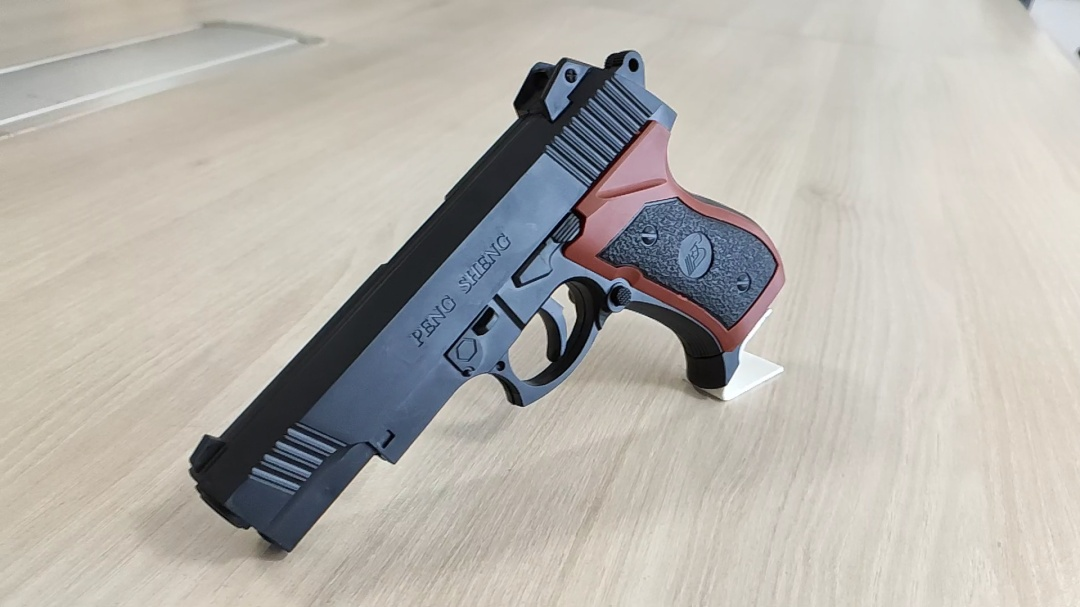gun: (185, 48, 793, 559)
